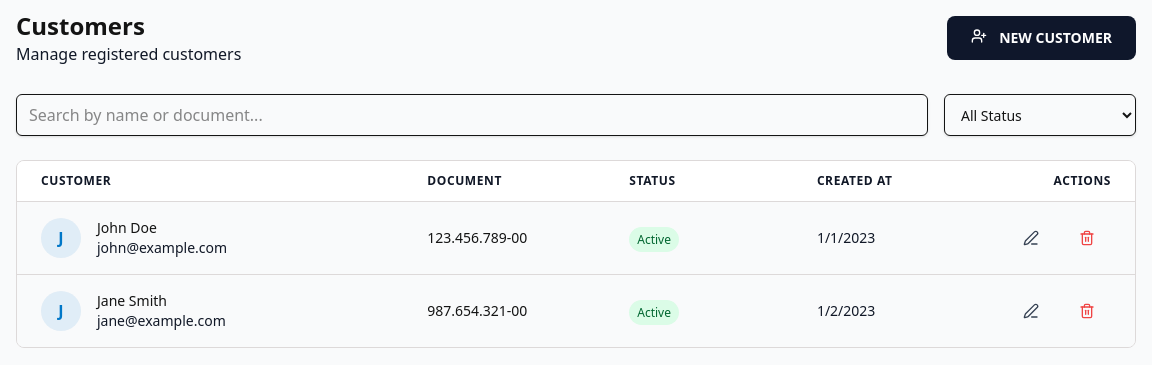
CustomersList.vue › should filter customers by search query
Type "John" into the field named "search" at coordinates (472, 115), box 16,94 -> 928,136
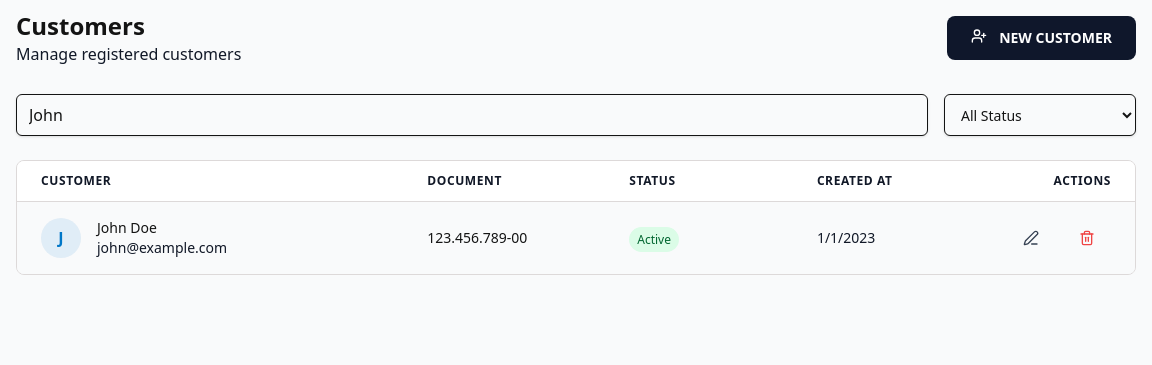
Expected: the text "John Doe" is shown, 97,218 -> 157,237
Now the text "Jane Smith" is gone
Clear the field named "search" at coordinates (472, 115), box 16,94 -> 928,136
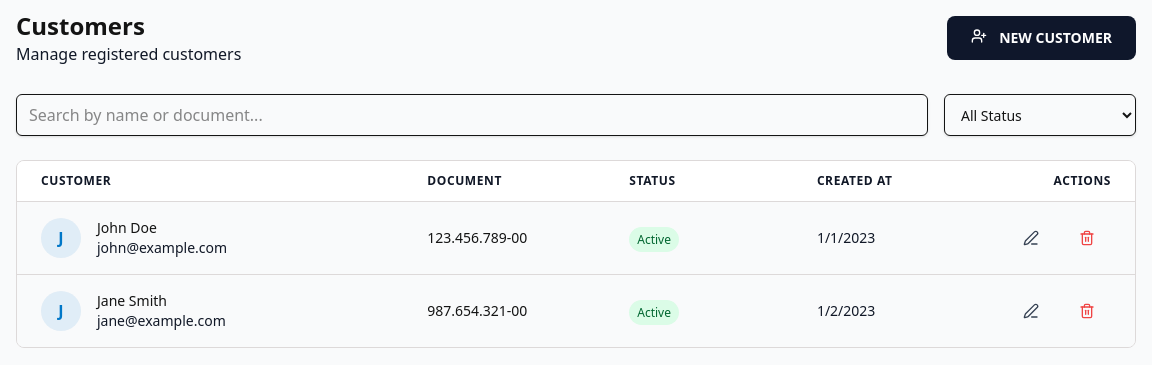
Expected: the text "John Doe" is shown, 97,218 -> 157,237
Now the text "Jane Smith" is shown, box 97,291 -> 167,310
Type "987.654.321-00" into the field named "search" at coordinates (472, 115), box 16,94 -> 928,136
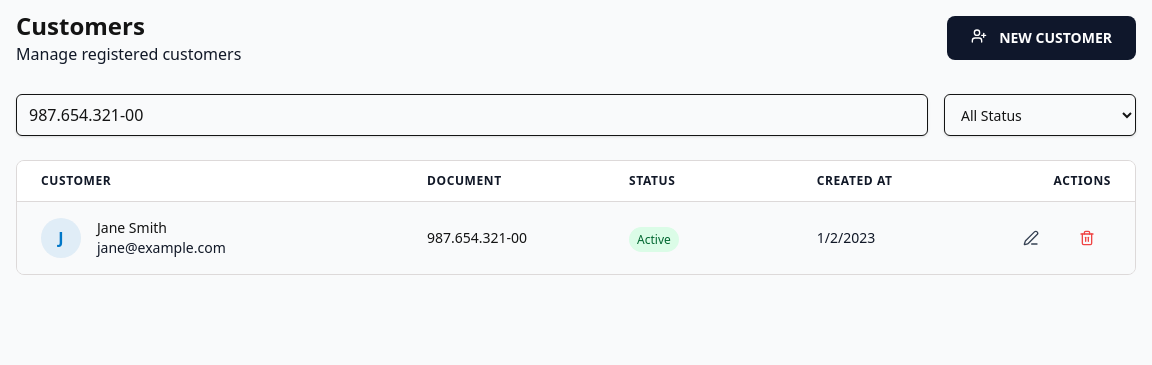
Now the text "Jane Smith" is shown, box 97,218 -> 167,237
Now the text "John Doe" is gone
